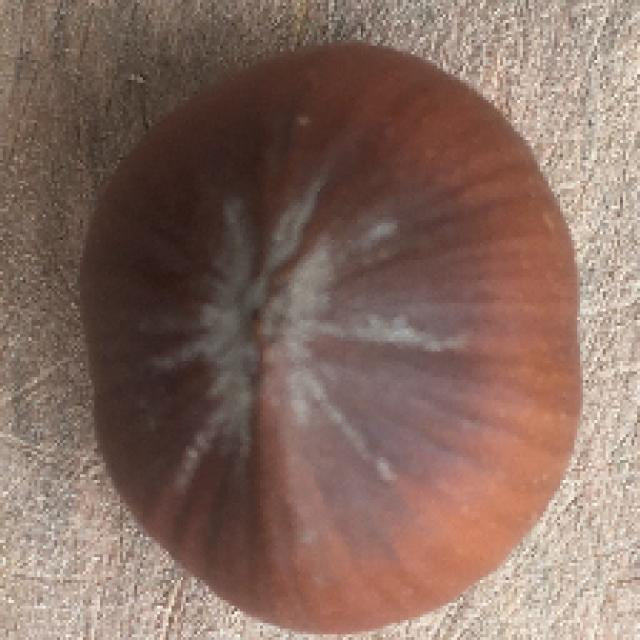DamagedHazelnut: (81, 43, 582, 637)
